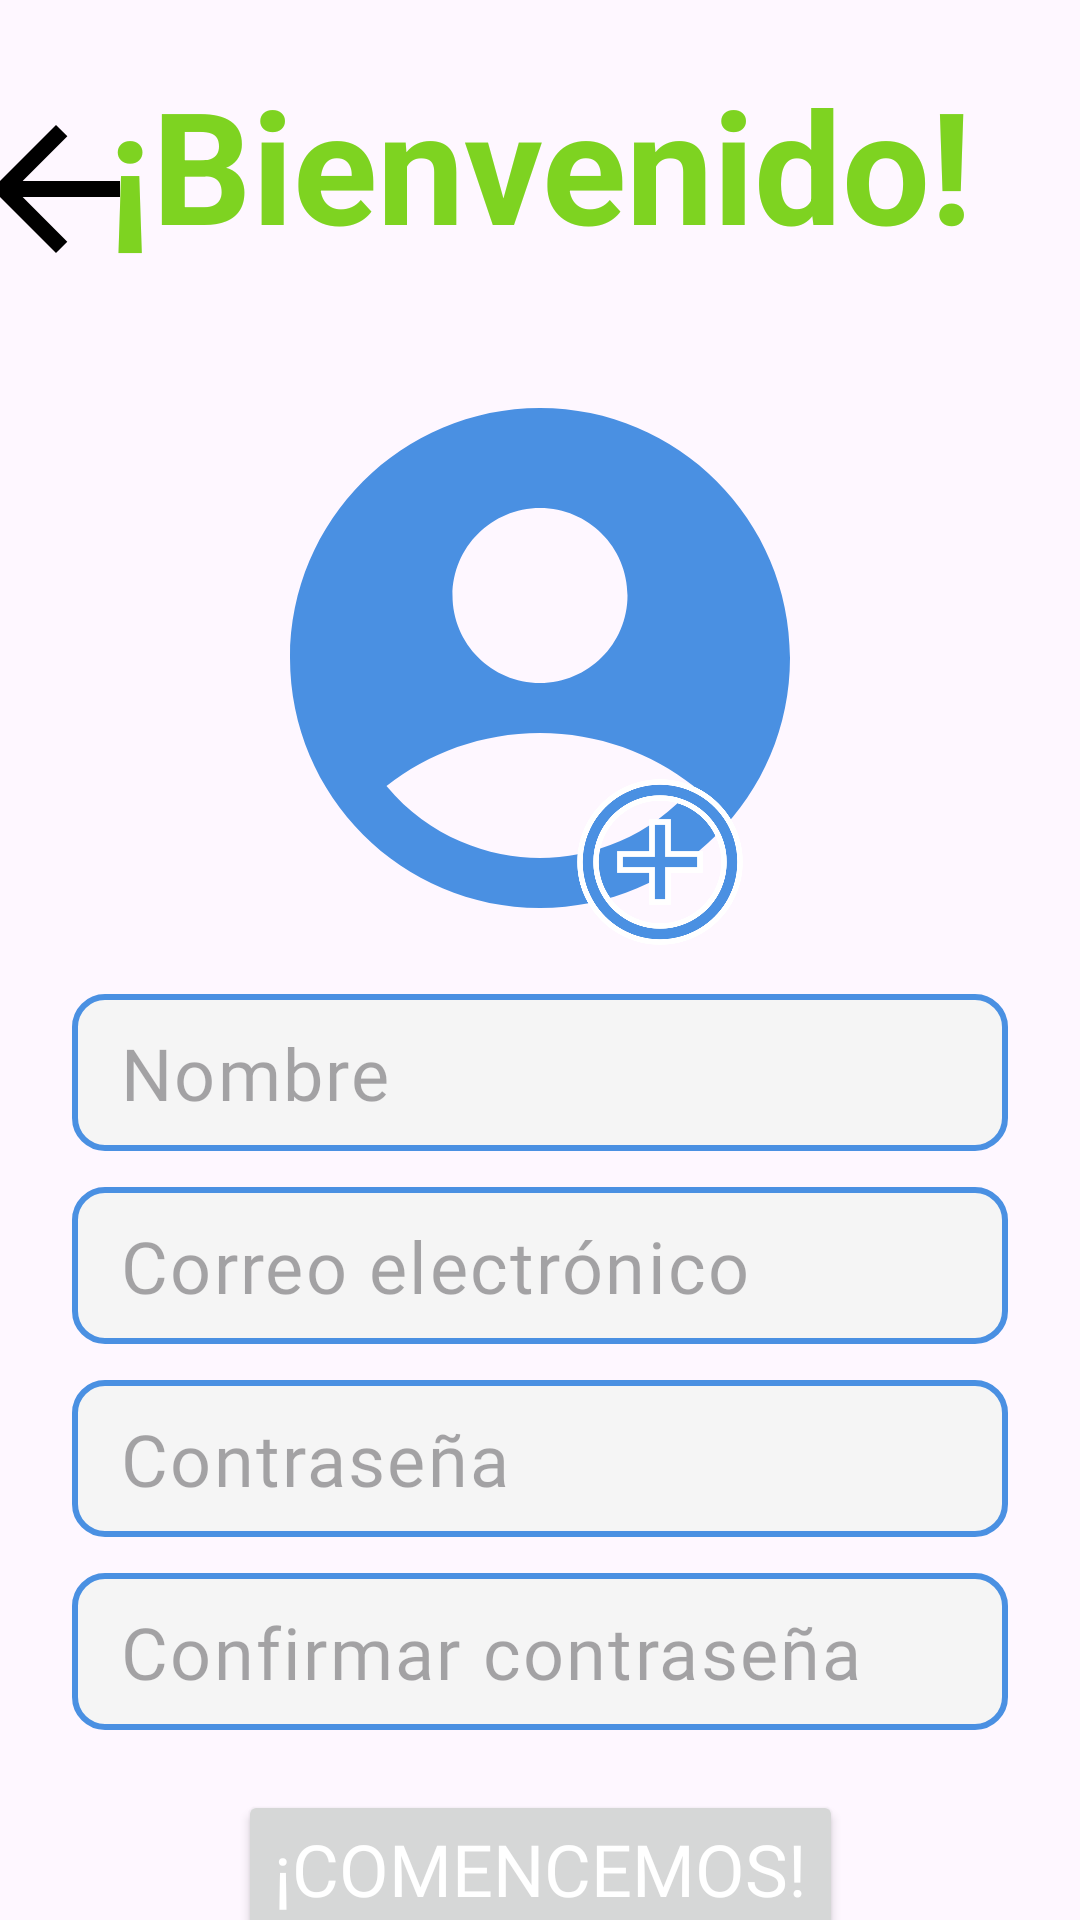

Icons on this 1080w x 1920h Android screen, each with the point to tap as (x,y):
add circle: (660,862)
arrow back: (60,189)
